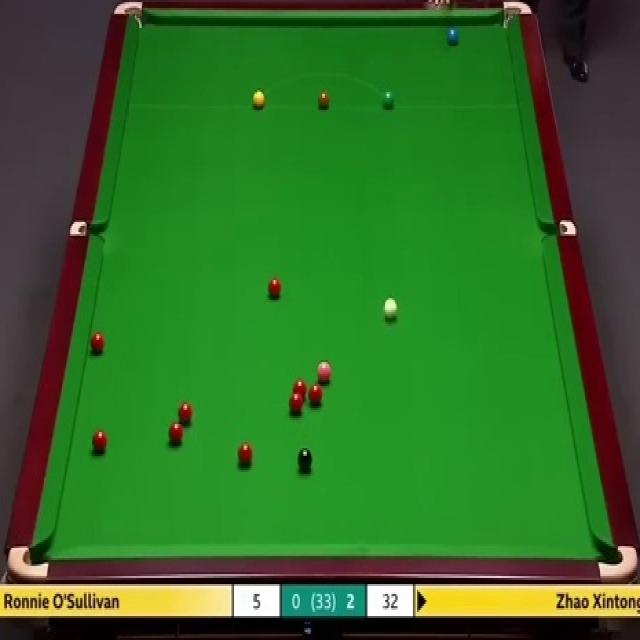black-ball: (297, 448, 314, 473)
blue-ball: (445, 22, 461, 47)
brown-ball: (317, 91, 331, 111)
green-ball: (382, 90, 396, 112)
pink-ball: (314, 361, 332, 385)
red-ball: (92, 428, 108, 456), (237, 442, 254, 468), (178, 401, 194, 428), (167, 421, 184, 445), (267, 276, 283, 300), (307, 383, 324, 405), (288, 393, 304, 416), (89, 331, 104, 355), (291, 379, 308, 400)
white-ball: (382, 294, 400, 321)
yellow-ball: (252, 90, 266, 110)
